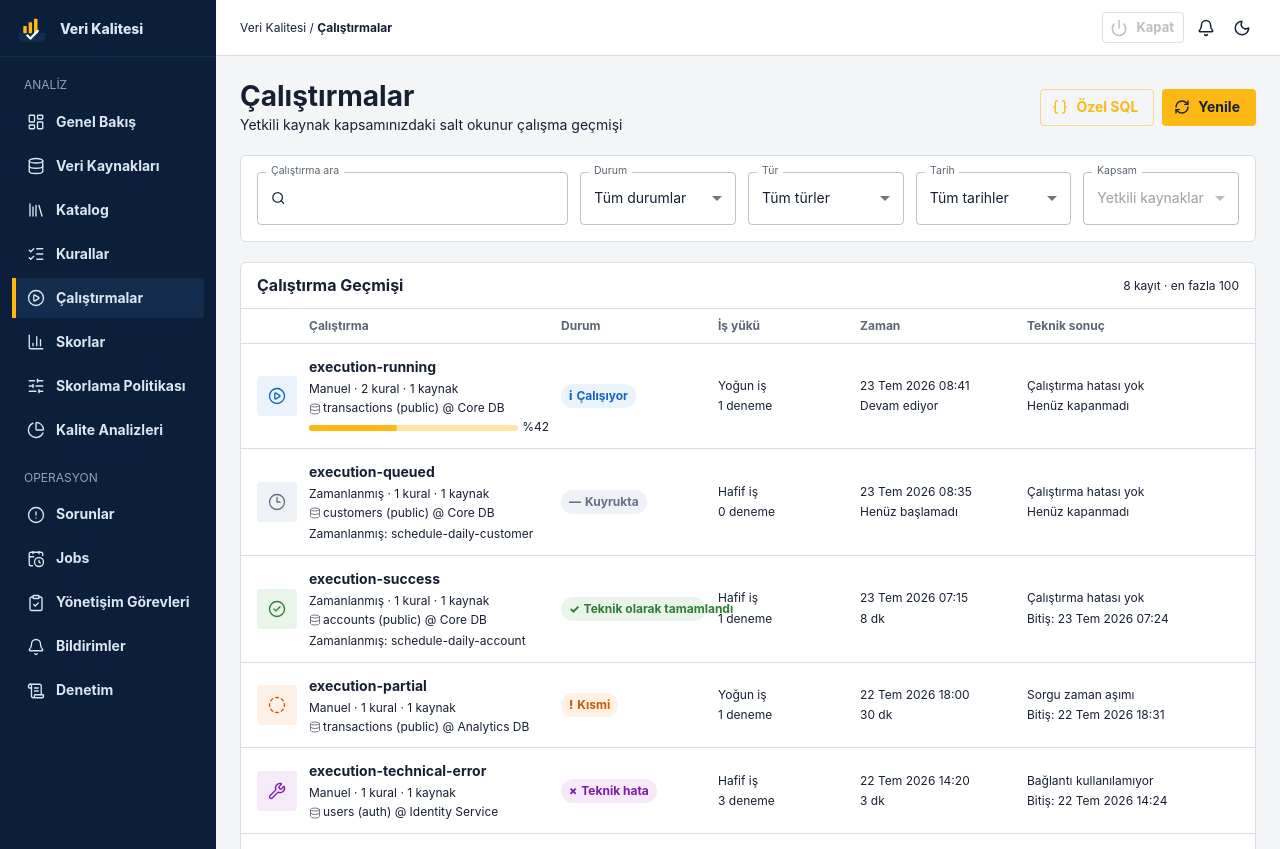
Test: Çalıştırmalar ekranı › Özel SQL dialog'u SQL editor, kaynak, zaman aşımı ve satır limiti alanlarını gösterir
Step 1. Click the button "Özel SQL" → click(1097, 107), box top-left (1040, 89), bottom-right (1154, 126)
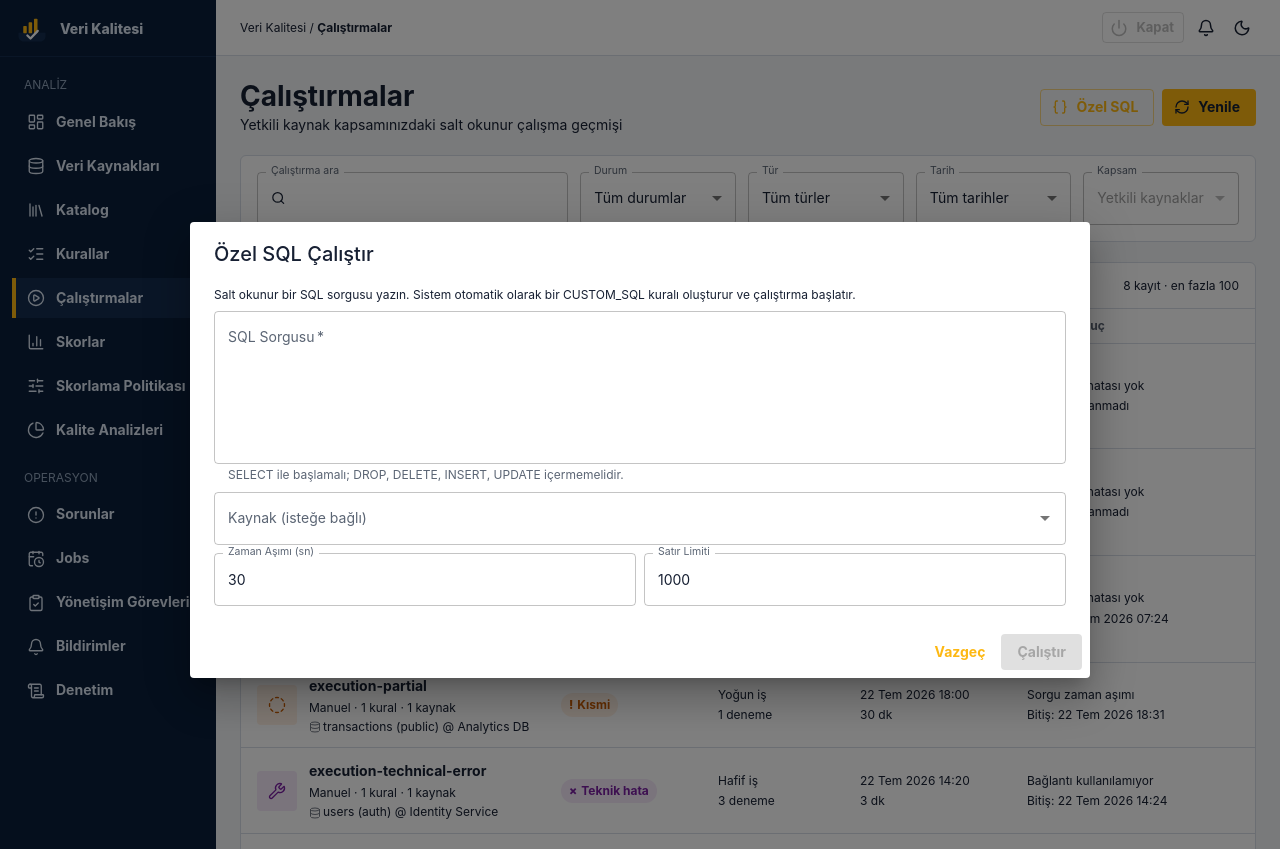
Now the heading "Özel SQL Çalıştır" is shown, box top-left (214, 242), bottom-right (374, 266)
Now the text box with placeholder "SELECT ... -- Salt okunur SQL sorgusunu giriniz" is shown, box top-left (228, 327), bottom-right (1052, 447)
Now the dropdown labelled "Kaynak (isteğe bağlı)" is shown, box top-left (223, 501), bottom-right (1027, 536)
